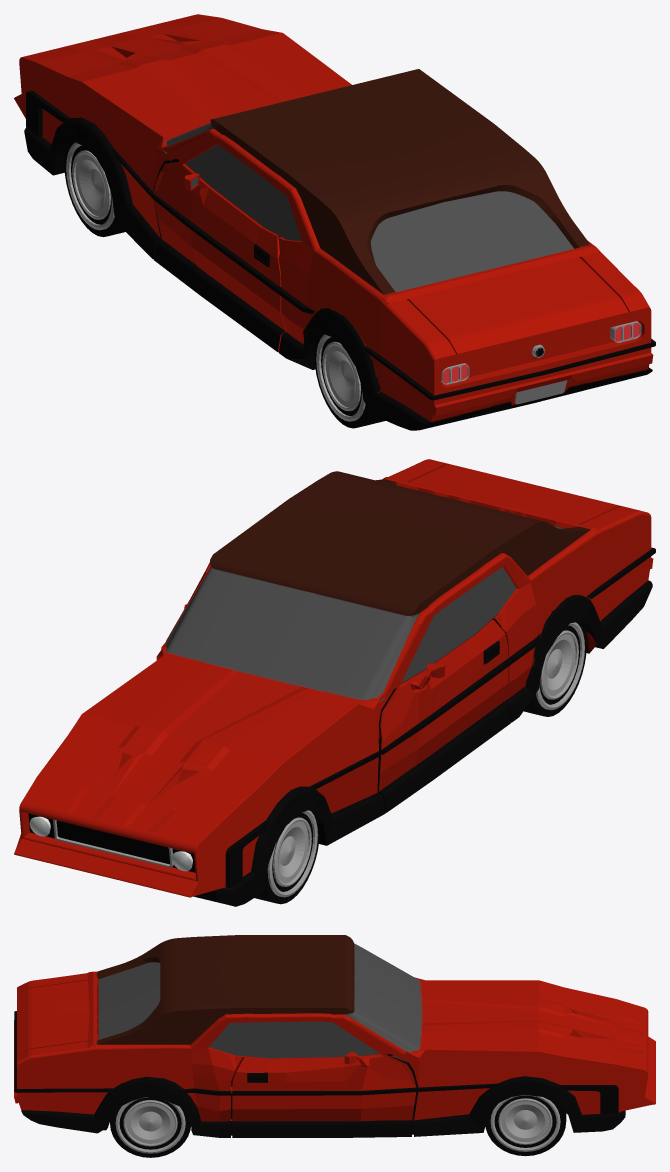
File: Juniors_Car.glb
3 renders of one model, top to bottom at view 1: azimuth 30°, elevation 25°; view 2: azimuth 150°, elevation 25°; view 3: azimuth 270°, elevation 25°, orthographic. The views are drawn at different scales.
Visible parts, largest first — view 1: Cube.008; view 2: Cube.008; view 3: Cube.008.
Part boxes in pixels (left/top/right/bottom): Cube.008: left=14, top=14, right=655, bottom=430; Cube.008: left=14, top=459, right=655, bottom=906; Cube.008: left=14, top=935, right=655, bottom=1157.
Bounding box in the file's own units: 2.59 × 1.97 × 7.69.
Materials: 2 (2 with a texture image).
